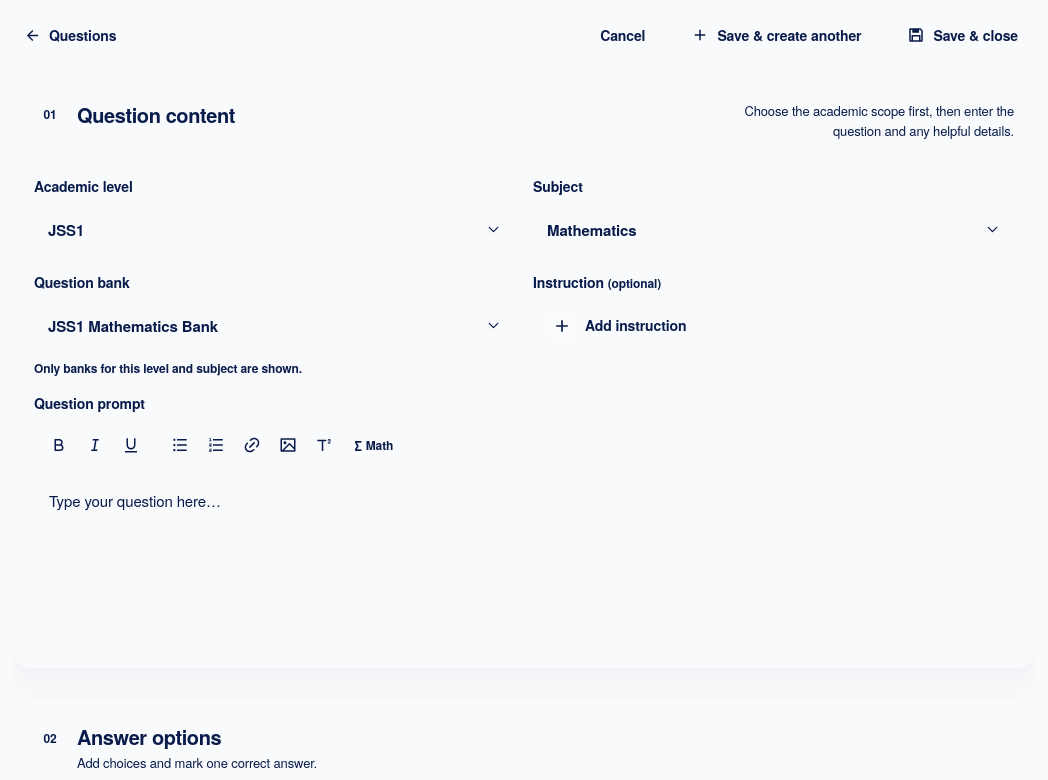
academic authoring scope › filters question subjects and banks when the academic level changes
Expected: the dropdown named "subject" reads "Mathematics", x1=533 y1=205 x2=1014 y2=254
Expected: the dropdown named "question bank" reads "JSS1 Mathematics Bank", x1=34 y1=301 x2=515 y2=350
Click the dropdown named "academic level". click: (66, 230)
box: x1=34 y1=205 x2=515 y2=254
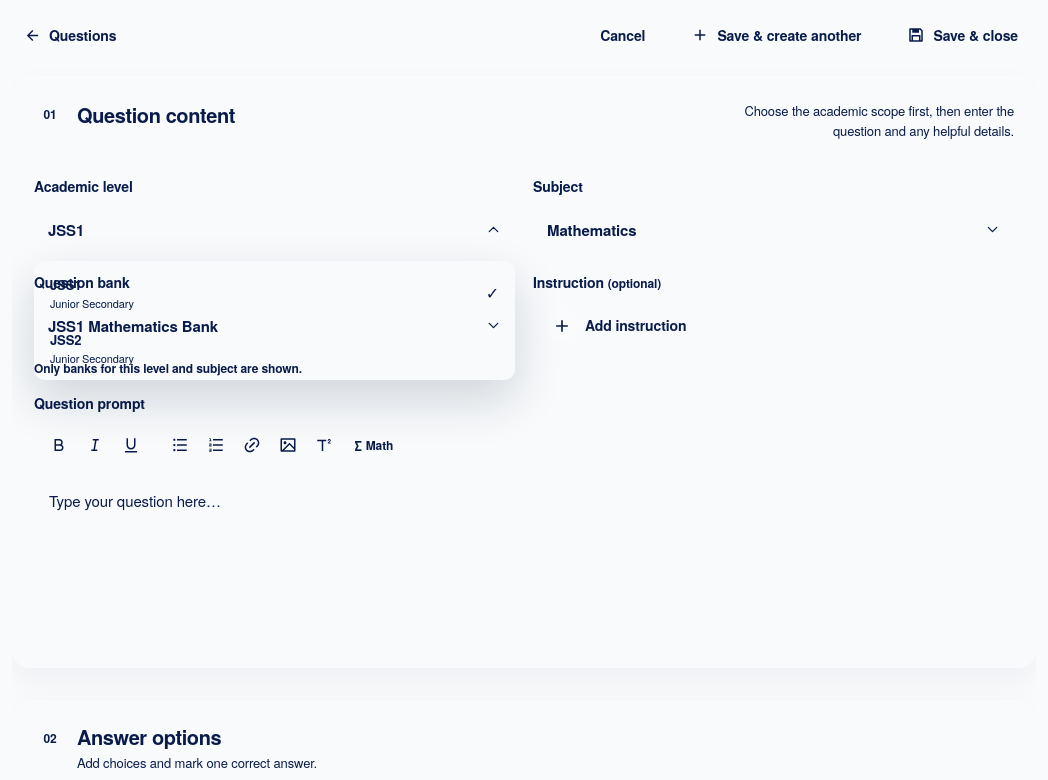
Click the option "JSS2 Junior Secondary". click: (66, 339)
box: x1=40 y1=322 x2=509 y2=374
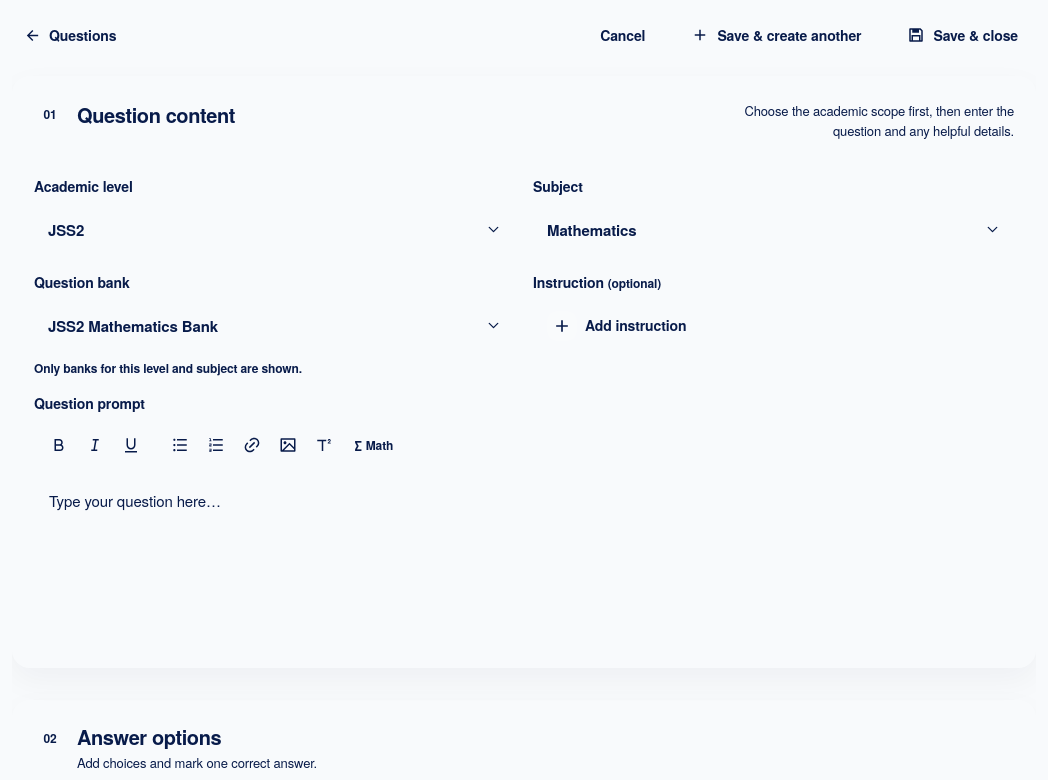
Click the dropdown named "subject". click: (592, 230)
box: x1=533 y1=205 x2=1014 y2=254
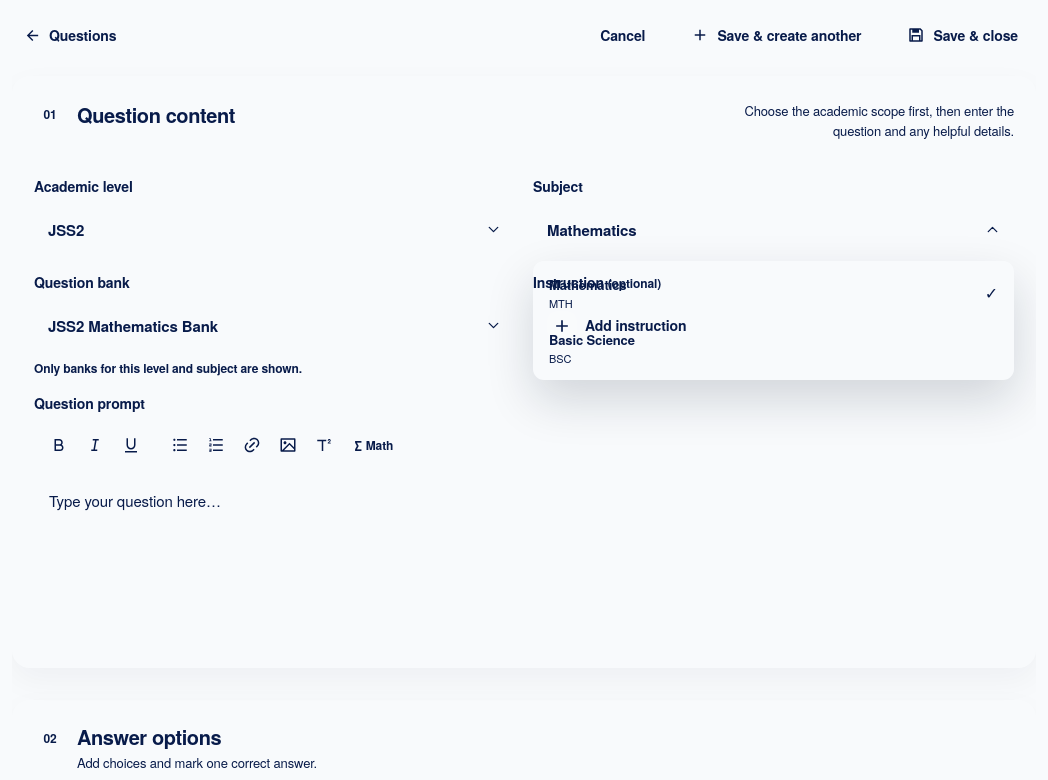
Expected: the option "Basic Science BSC" is shown
Expected: the number of options "Mathematics MTH ✓" is 1, x1=539 y1=267 x2=1008 y2=319
Click the option "Basic Science BSC". click: (592, 339)
box: x1=539 y1=322 x2=1008 y2=374
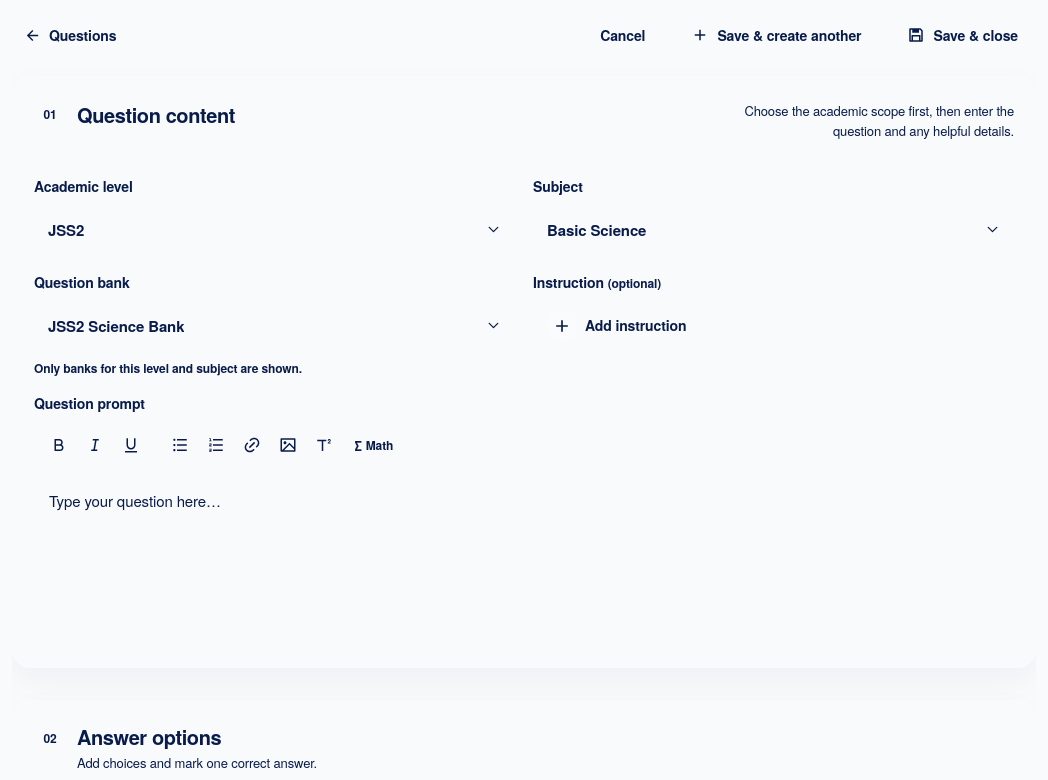
Expected: the dropdown named "question bank" reads "JSS2 Science Bank"
Click the dropdown named "question bank". click: (116, 326)
box: x1=34 y1=301 x2=515 y2=350
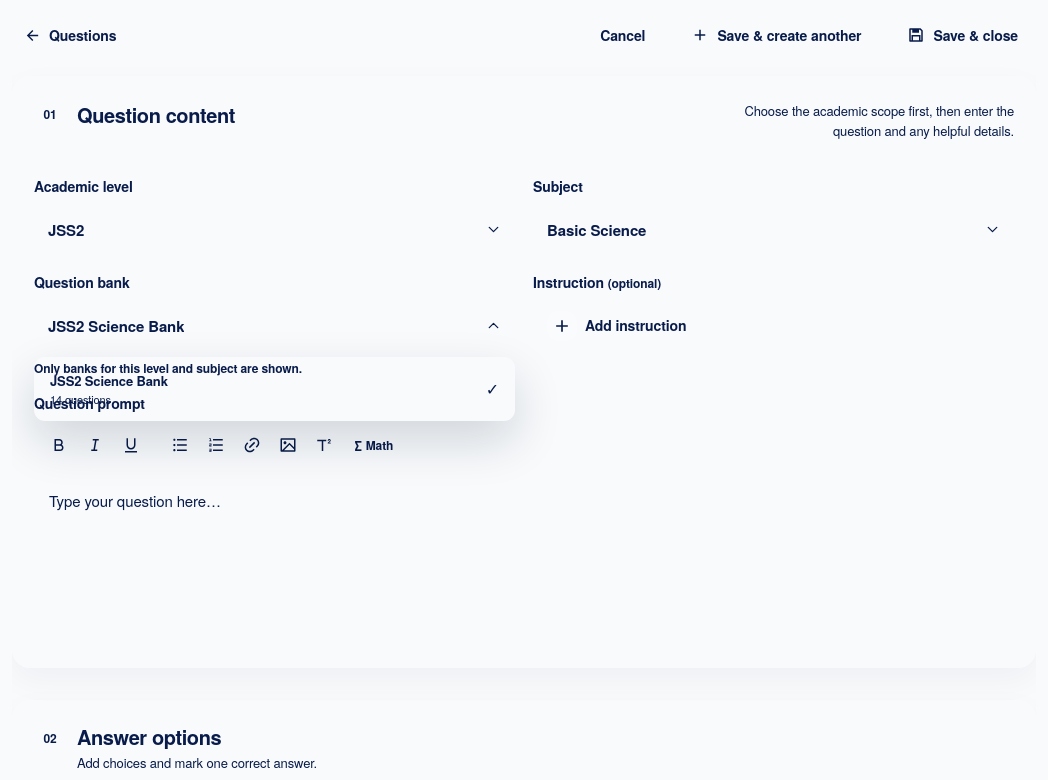
Expected: the dropdown labelled "JSS1 Mathematics Bank" is not shown
Expected: the option "JSS2 Science Bank 14 questions ✓" is shown, x1=40 y1=363 x2=509 y2=415
